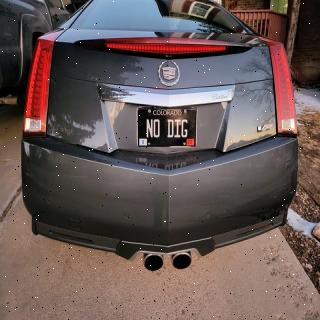license: (137, 107, 198, 150)
